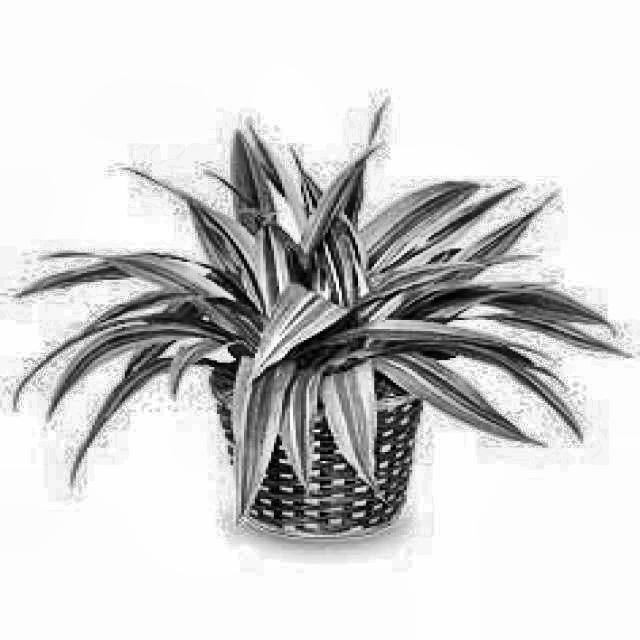plants: (18, 110, 617, 540)
